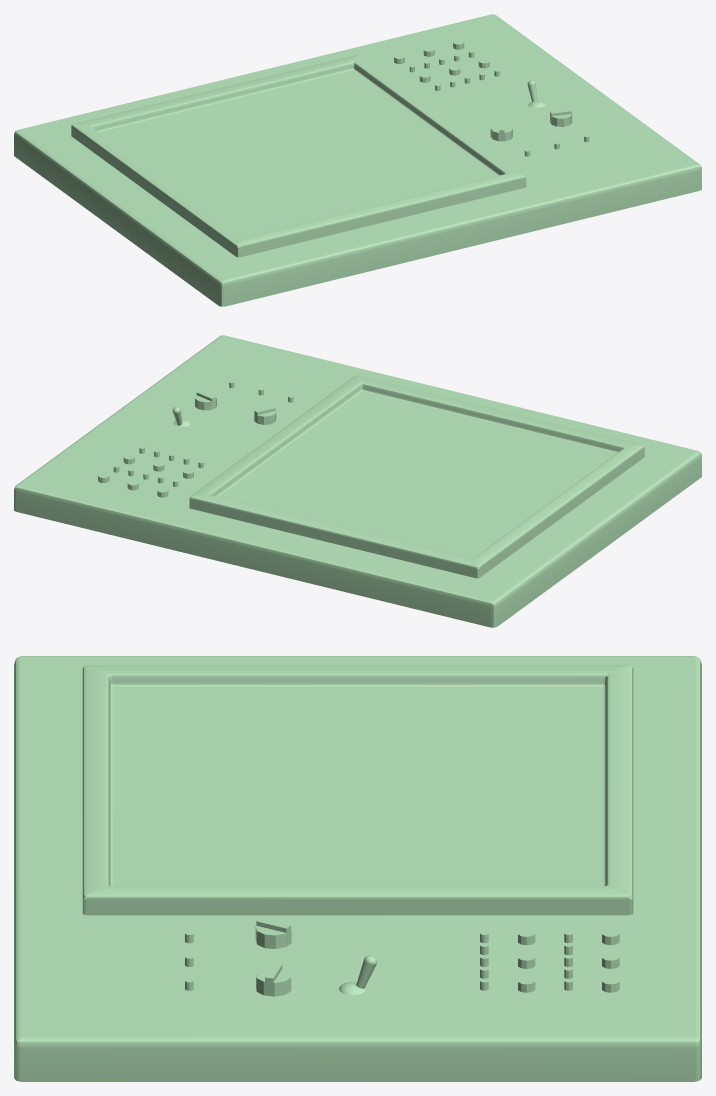
Rendered from Sonar.fbx.
3 views of the same model, one above another, from view 1: azimuth 30°, elevation 25°; view 2: azimuth 150°, elevation 25°; view 3: azimuth 270°, elevation 25° (orthographic). The views are drawn at different scales.
Parts seen in each view (by area): view 1: sonar_base, sonar_device; view 2: sonar_base, sonar_device; view 3: sonar_base, sonar_device, dial_v1_6, dial_v1_7.
Boxes of the visible parts, x1,y1,x2,y2 form: sonar_base: [14, 14, 701, 306]; sonar_device: [71, 54, 526, 257]; sonar_base: [14, 335, 701, 627]; sonar_device: [189, 375, 644, 578]; sonar_base: [14, 656, 701, 1081]; sonar_device: [82, 665, 633, 915]; dial_v1_6: [255, 918, 291, 948]; dial_v1_7: [256, 963, 291, 996].
Bounding box in the file's own units: 1 × 0.0893 × 0.75.
